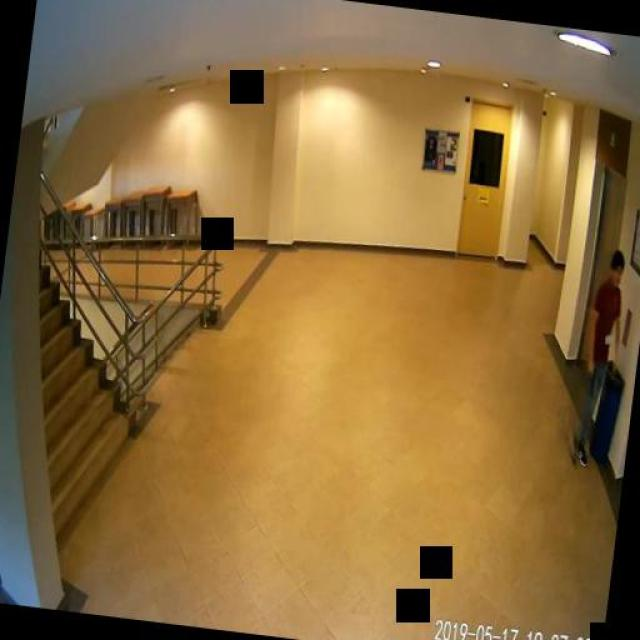gun: (585, 362, 597, 397)
